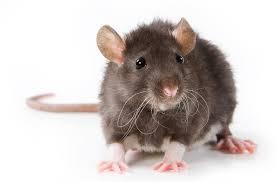rat: (25, 17, 260, 176)
